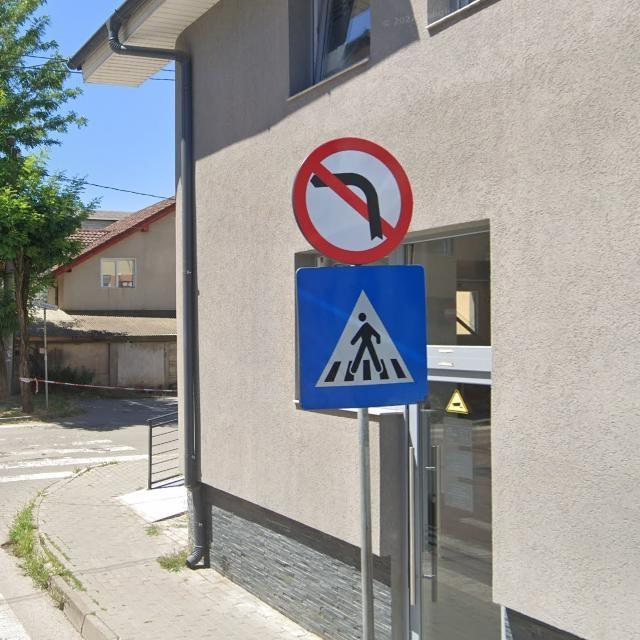info_crosswalk: (294, 263, 430, 408)
